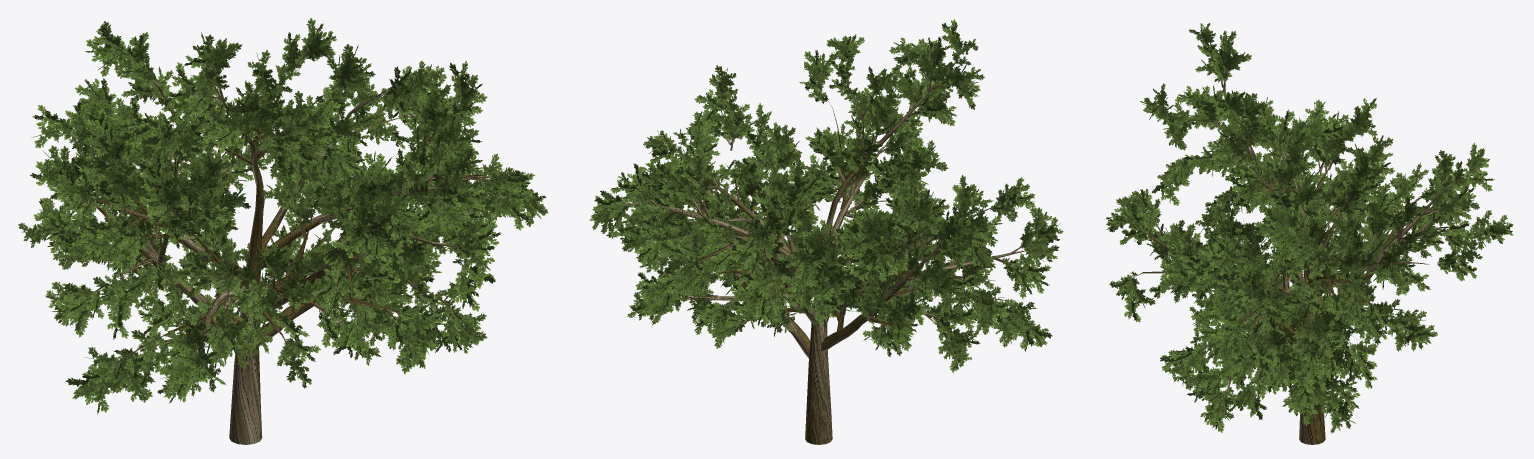
Rendered from oak-203-lod2.glb.
3 renders of one model, left to right at view 1: azimuth 30°, elevation 25°; view 2: azimuth 150°, elevation 25°; view 3: azimuth 270°, elevation 25°, orthographic. The views are drawn at different scales.
Visible parts, largest first — view 1: leaves, branches; view 2: leaves, branches; view 3: leaves, branches.
Boxes of the visible parts, left/top/right/bottom form: leaves: left=18, top=18, right=548, bottom=414; branches: left=89, top=62, right=493, bottom=444; leaves: left=589, top=19, right=1063, bottom=372; branches: left=627, top=54, right=1023, bottom=444; leaves: left=1106, top=22, right=1513, bottom=433; branches: left=1135, top=48, right=1464, bottom=444.
Size of the model in its own units: 19 by 18 by 17.71.
Materials: 2 (2 with a texture image).
